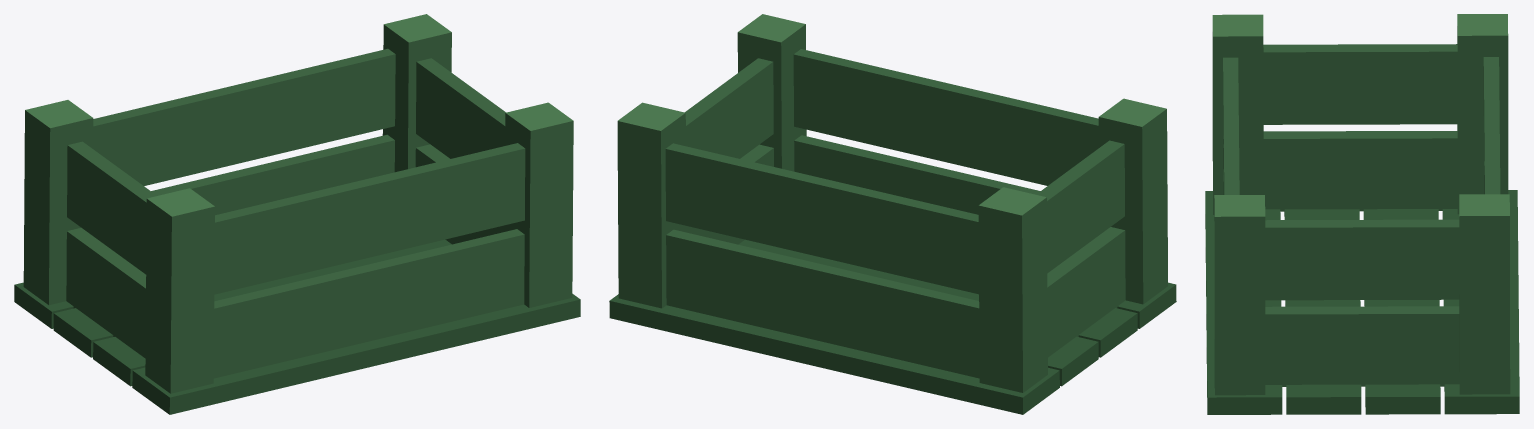
Rendered from Ship_042.glb.
3 renders of one model, left to right at view 1: azimuth 30°, elevation 25°; view 2: azimuth 150°, elevation 25°; view 3: azimuth 270°, elevation 25°, orthographic.
Parts seen in each view (by area): view 1: Ship_042; view 2: Ship_042; view 3: Ship_042.
Boxes of the visible parts, x1=… form: Ship_042: x1=14, y1=14, x2=580, y2=414; Ship_042: x1=609, y1=14, x2=1176, y2=414; Ship_042: x1=1205, y1=14, x2=1519, y2=414.
Bounding box in the file's own units: 0.8427 × 0.385 × 0.5488.
Materials: 1 (1 with a texture image).
